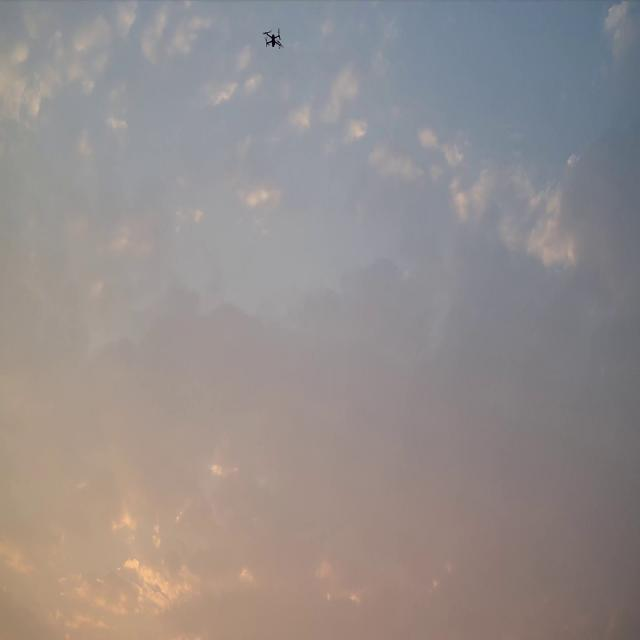UAV: (263, 28, 285, 50)
